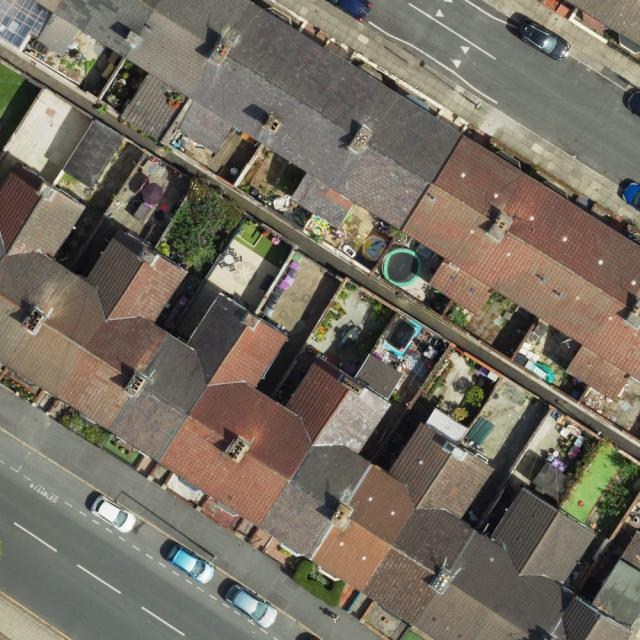roof: (0, 163, 640, 640), (32, 1, 640, 402), (564, 1, 640, 50)
